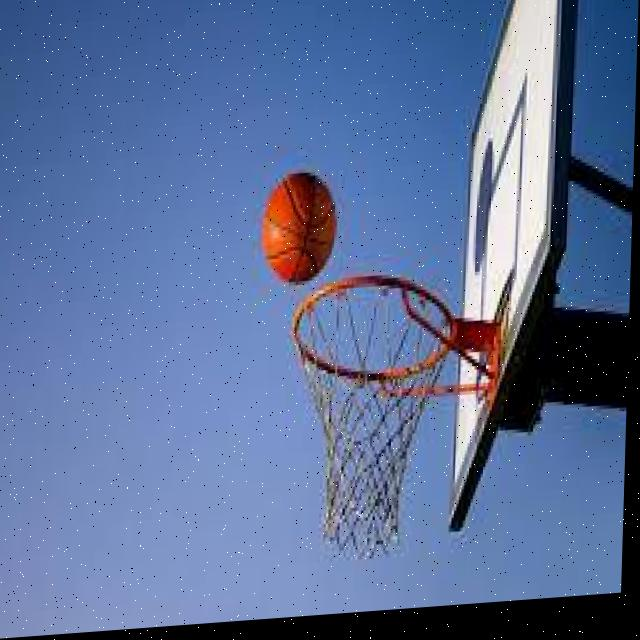basketball: (263, 170, 336, 284)
hoop: (286, 270, 454, 548)
